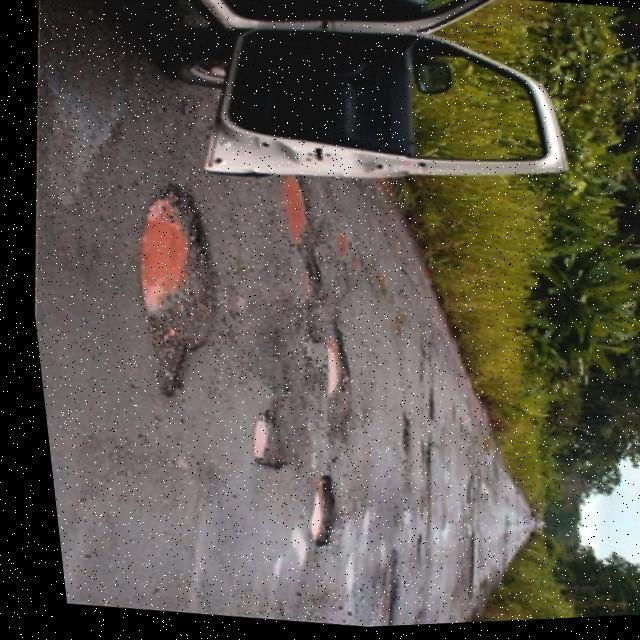pothole: (107, 184, 235, 366), (273, 476, 338, 555), (258, 176, 322, 256), (344, 550, 398, 630), (300, 332, 350, 407), (230, 418, 280, 476), (378, 417, 414, 462)
